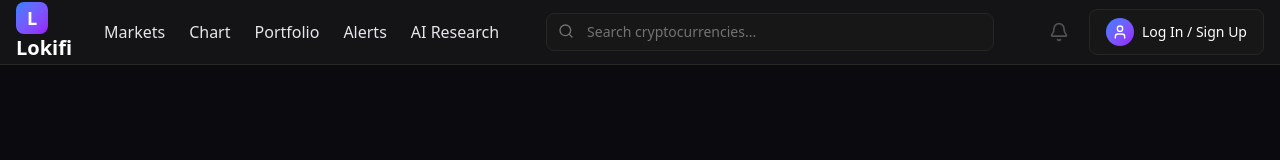
Test: GlobalHeader › Search Results › should show loading state when searching
The width and height of the screenshot is (1280, 160).
Type "BTC" into the field with placeholder "Search cryptocurrencies..." at (770, 32), box [546,13,994,51]
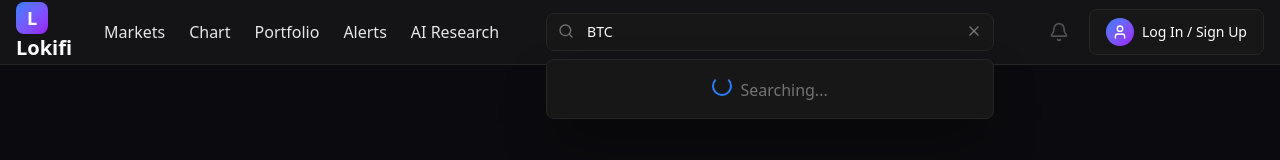
Now the text "Searching..." is shown, box [740,79,828,101]
